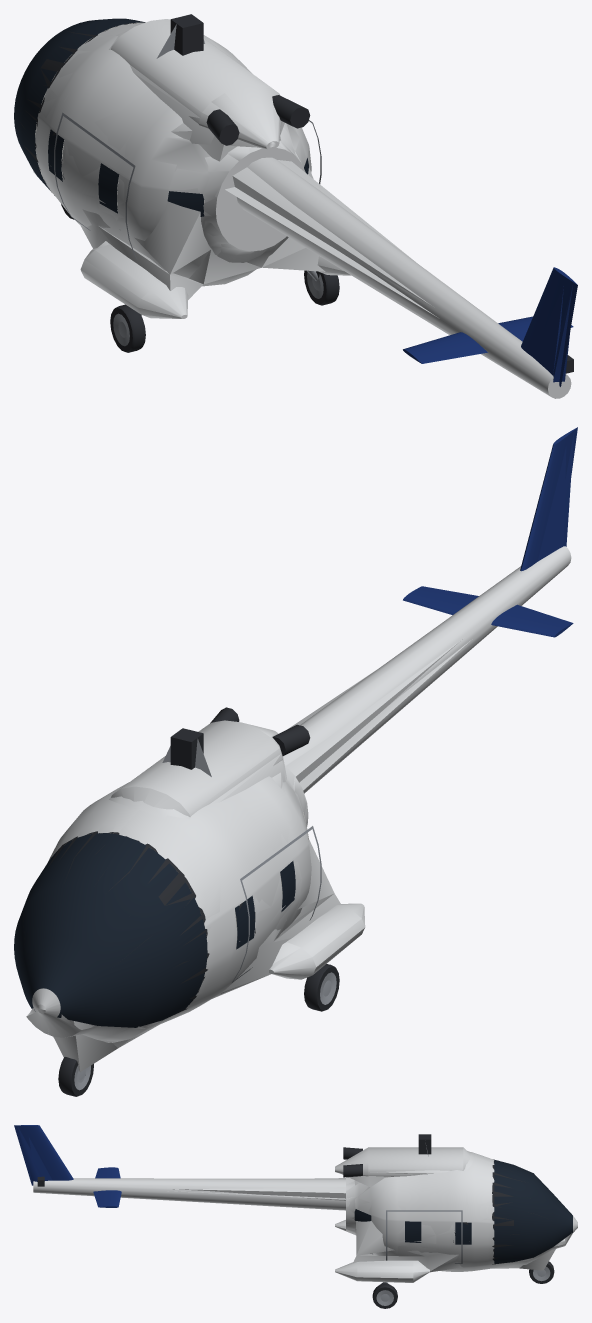
File: lat_heli_twin.dae
3 views of the same model, one above another, from view 1: azimuth 30°, elevation 25°; view 2: azimuth 150°, elevation 25°; view 3: azimuth 270°, elevation 25° (orthographic). The views are drawn at different scales.
Parts seen in each view (by area): view 1: lat_heli_twin150, lat_heli_twin32, lat_heli_twin1; view 2: lat_heli_twin150, lat_heli_twin32, lat_heli_twin1; view 3: lat_heli_twin150, lat_heli_twin32, lat_heli_twin1.
Boxes of the visible parts, bbox=[...] form: lat_heli_twin150: bbox=[14, 14, 577, 398]; lat_heli_twin32: bbox=[20, 20, 573, 382]; lat_heli_twin1: bbox=[80, 24, 563, 375]; lat_heli_twin150: bbox=[14, 427, 577, 1096]; lat_heli_twin32: bbox=[23, 429, 574, 1082]; lat_heli_twin1: bbox=[53, 446, 566, 1071]; lat_heli_twin150: bbox=[14, 1125, 577, 1308]; lat_heli_twin32: bbox=[17, 1125, 572, 1285]; lat_heli_twin1: bbox=[29, 1137, 559, 1272].
Bounding box in the file's own units: 3.64 × 14.34 × 4.42.
